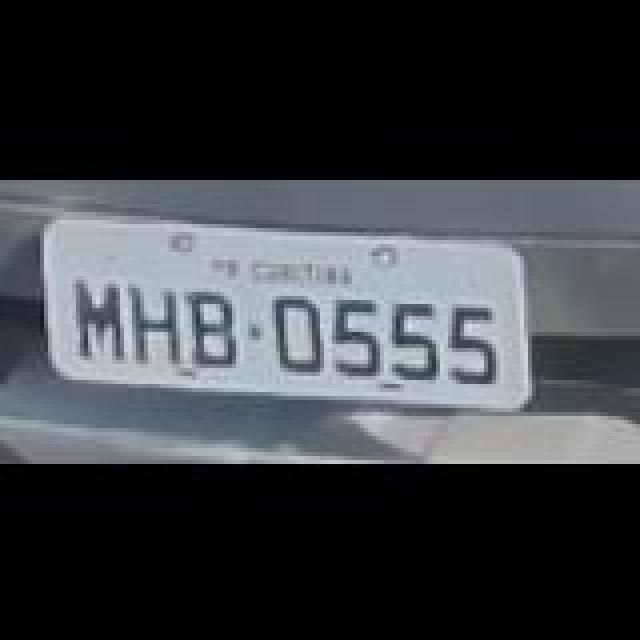5: (388, 296, 444, 376), (332, 296, 388, 376), (448, 300, 504, 380)
B: (188, 286, 244, 362)
D: (272, 294, 328, 370)
H: (126, 284, 186, 364)
M: (74, 274, 134, 358)
